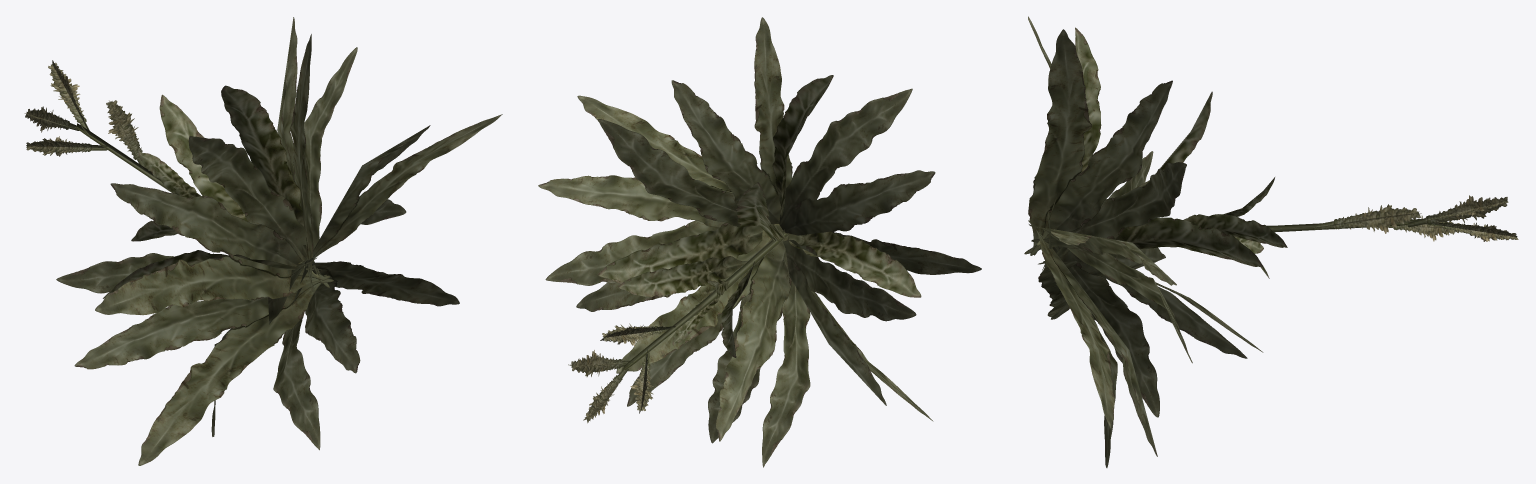
File: TI_Weed_03_a.fbx
3 renders of one model, left to right at view 1: azimuth 30°, elevation 25°; view 2: azimuth 150°, elevation 25°; view 3: azimuth 270°, elevation 25°, orthographic. The views are drawn at different scales.
Parts seen in each view (by area): view 1: TI_Weed_03_a; view 2: TI_Weed_03_a; view 3: TI_Weed_03_a.
Boxes of the visible parts, x1,y1,x2,y2 form: TI_Weed_03_a: [24, 17, 502, 465]; TI_Weed_03_a: [538, 17, 981, 467]; TI_Weed_03_a: [1024, 16, 1518, 467].
Size of the model in its own units: 1.62 by 1.64 by 1.76.
